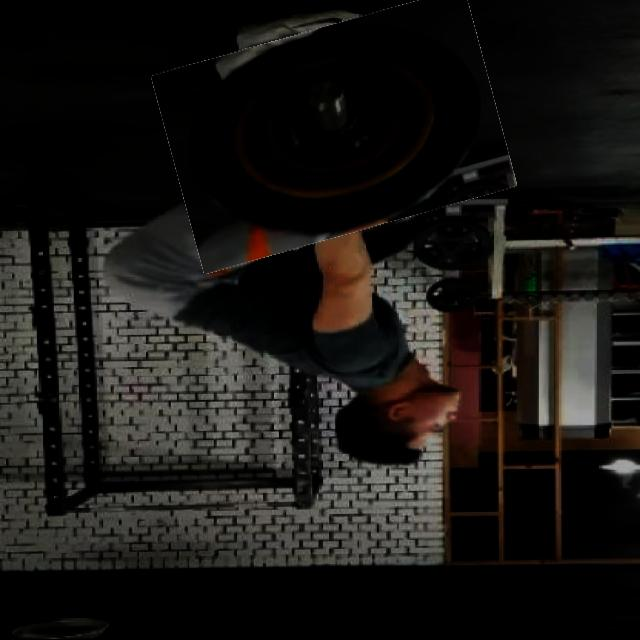barbell: (163, 9, 507, 257)
